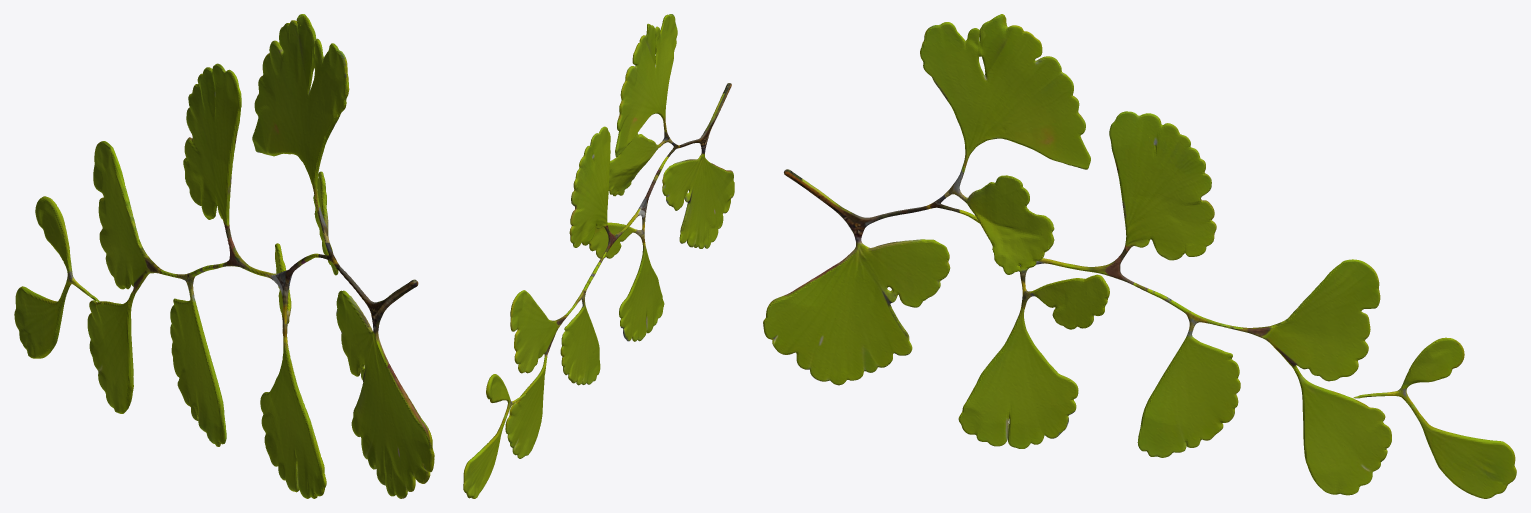
Rendered from Culantrillo3D.glb.
3 views of the same model, side by side, from view 1: azimuth 30°, elevation 25°; view 2: azimuth 150°, elevation 25°; view 3: azimuth 270°, elevation 25° (orthographic). The views are drawn at different scales.
Visible parts, largest first — view 1: tripo_node_0d044795-c104-4e79-95fb-142c77bee0cb; view 2: tripo_node_0d044795-c104-4e79-95fb-142c77bee0cb; view 3: tripo_node_0d044795-c104-4e79-95fb-142c77bee0cb.
Part boxes in pixels (x1=…): tripo_node_0d044795-c104-4e79-95fb-142c77bee0cb: x1=14, y1=14, x2=434, y2=498; tripo_node_0d044795-c104-4e79-95fb-142c77bee0cb: x1=463, y1=14, x2=734, y2=498; tripo_node_0d044795-c104-4e79-95fb-142c77bee0cb: x1=763, y1=14, x2=1516, y2=498.
Size of the model in its own units: 0.0771 by 0.71 by 1.
Materials: 1 (1 with a texture image).
